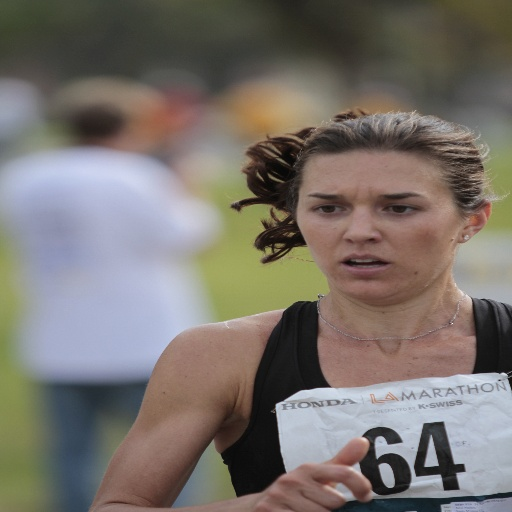hand: (250, 452, 392, 510)
